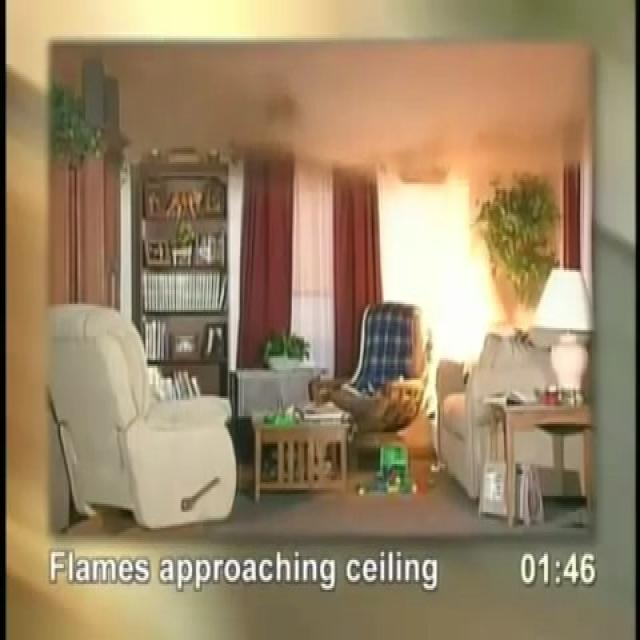Fire: (362, 181, 555, 477)
